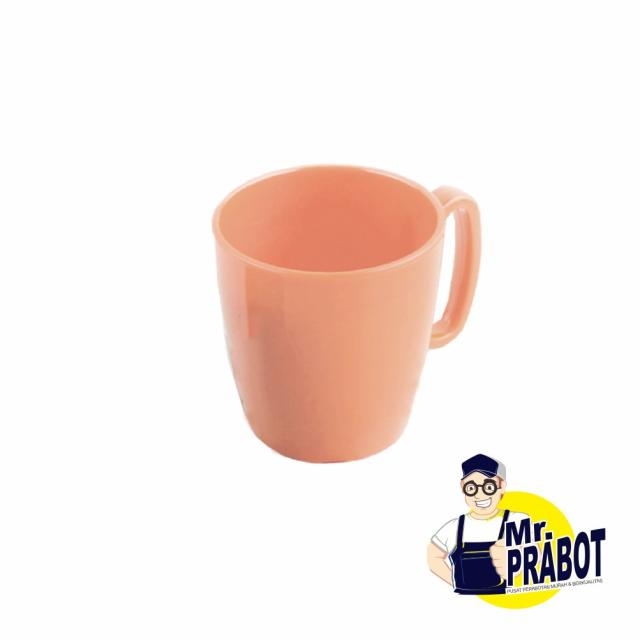Cangkir: (188, 156, 493, 474)
